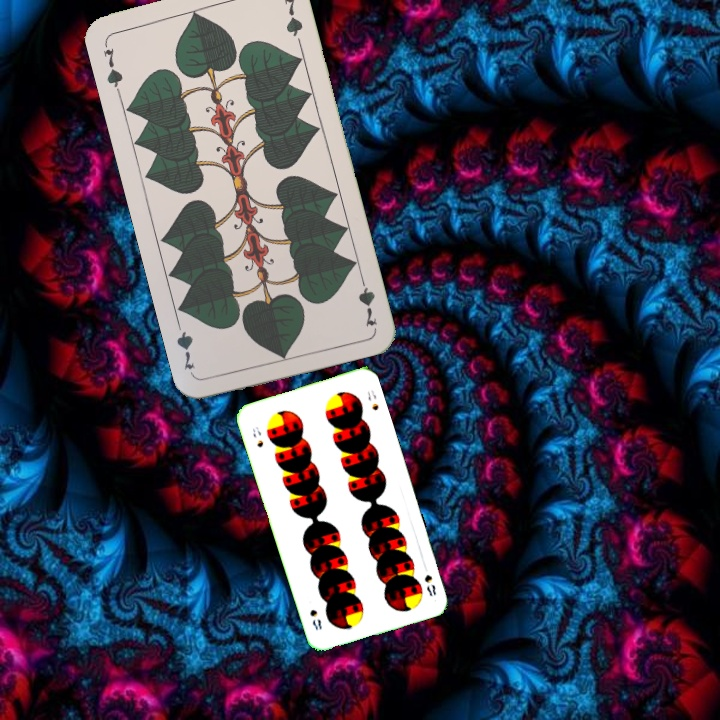G7: (98, 37, 125, 96), (354, 270, 380, 329)
S8: (420, 570, 439, 599), (249, 422, 266, 450)
